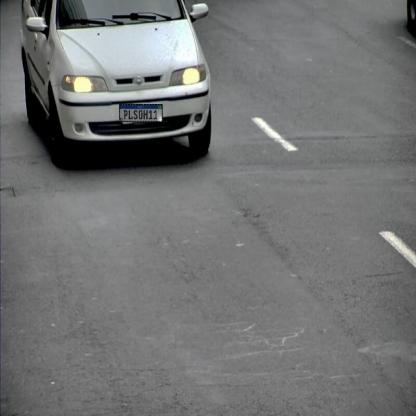PlacaM: (119, 104, 163, 122)
